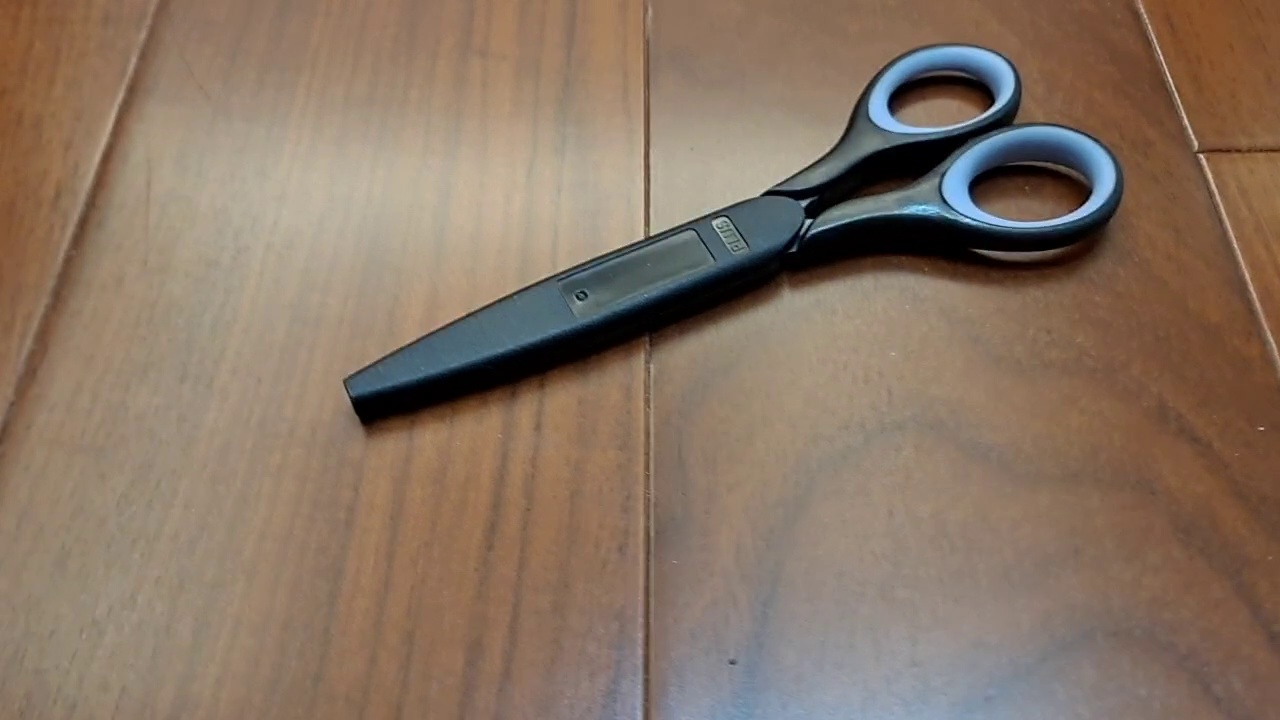scissors: (342, 40, 1125, 429)
